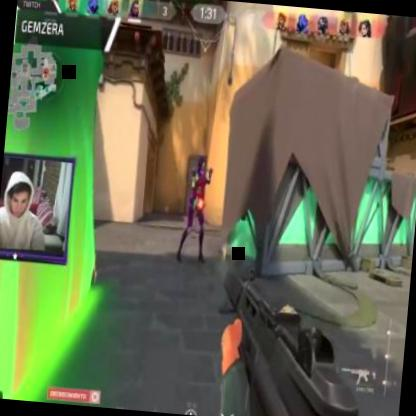enemy: (176, 154, 214, 263)
enemy_head: (198, 156, 206, 172)
